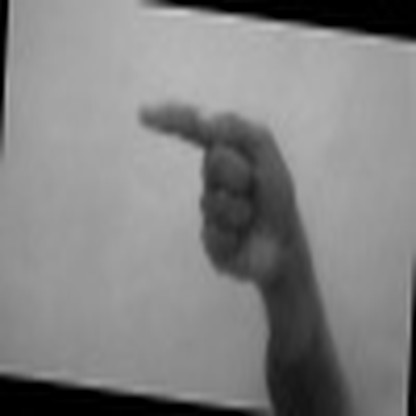g: (105, 99, 352, 288)
